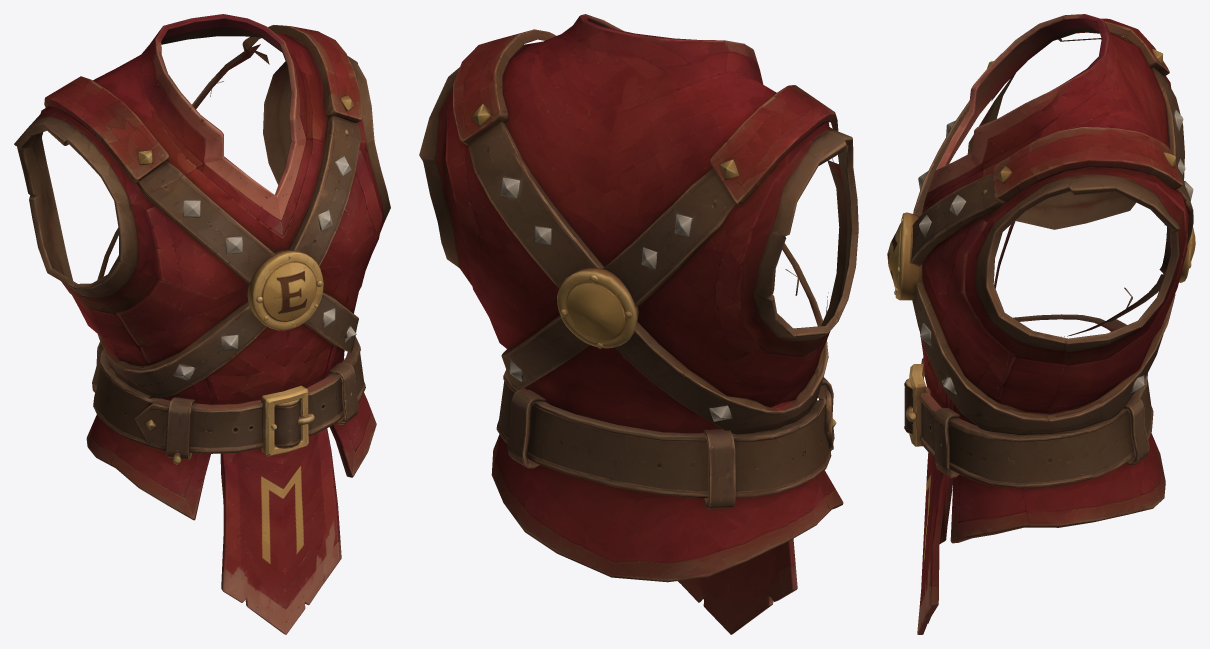
Rendered from pechera-eromash-base.glb.
3 views of the same model, side by side, from view 1: azimuth 30°, elevation 25°; view 2: azimuth 150°, elevation 25°; view 3: azimuth 270°, elevation 25° (orthographic). The views are drawn at different scales.
Visible parts, largest first — view 1: tripo_4bf595fb_f2e3_4925_b762_a29908b07381; view 2: tripo_4bf595fb_f2e3_4925_b762_a29908b07381; view 3: tripo_4bf595fb_f2e3_4925_b762_a29908b07381.
Boxes of the visible parts, x1,y1,x2,y2 form: tripo_4bf595fb_f2e3_4925_b762_a29908b07381: [14, 14, 390, 634]; tripo_4bf595fb_f2e3_4925_b762_a29908b07381: [419, 14, 858, 634]; tripo_4bf595fb_f2e3_4925_b762_a29908b07381: [887, 14, 1195, 634].
Size of the model in its own units: 0.5698 by 0.9995 by 0.4683.
1 material, 1 textured.
